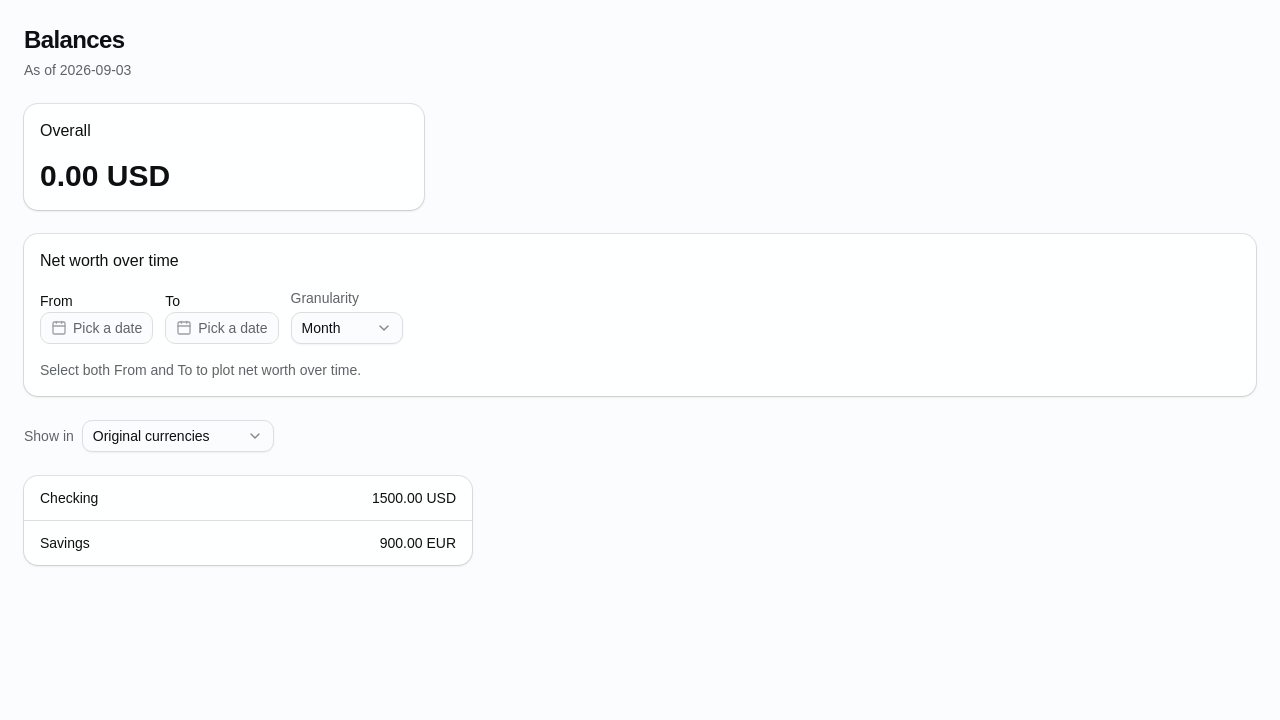
Test: BalancesPage › converts balances into the chosen currency and shows rate provenance on demand
This screenshot has width=1280, height=720.
Expected: the button "Checking" is shown, [40, 488, 360, 508]
Click the dropdown named "Show in": (178, 436) [82, 420, 274, 452]
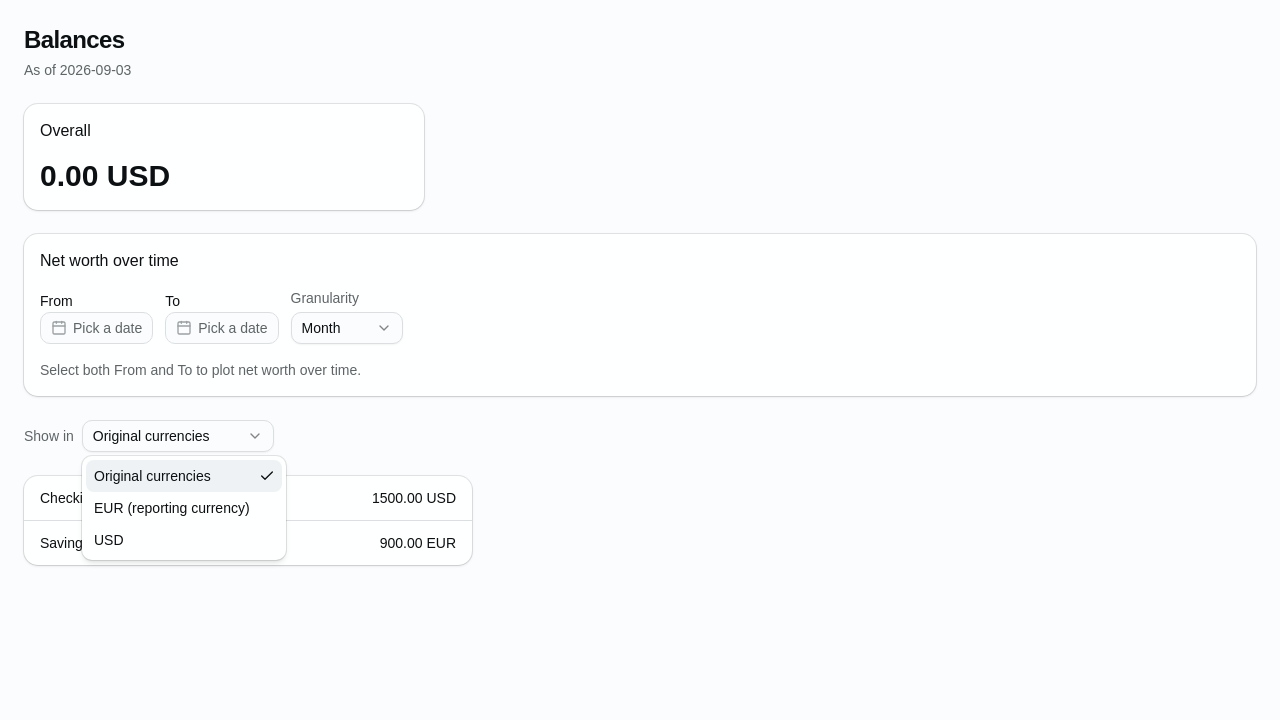
Click the option "EUR (reporting currency)": (172, 508) [94, 500, 250, 516]
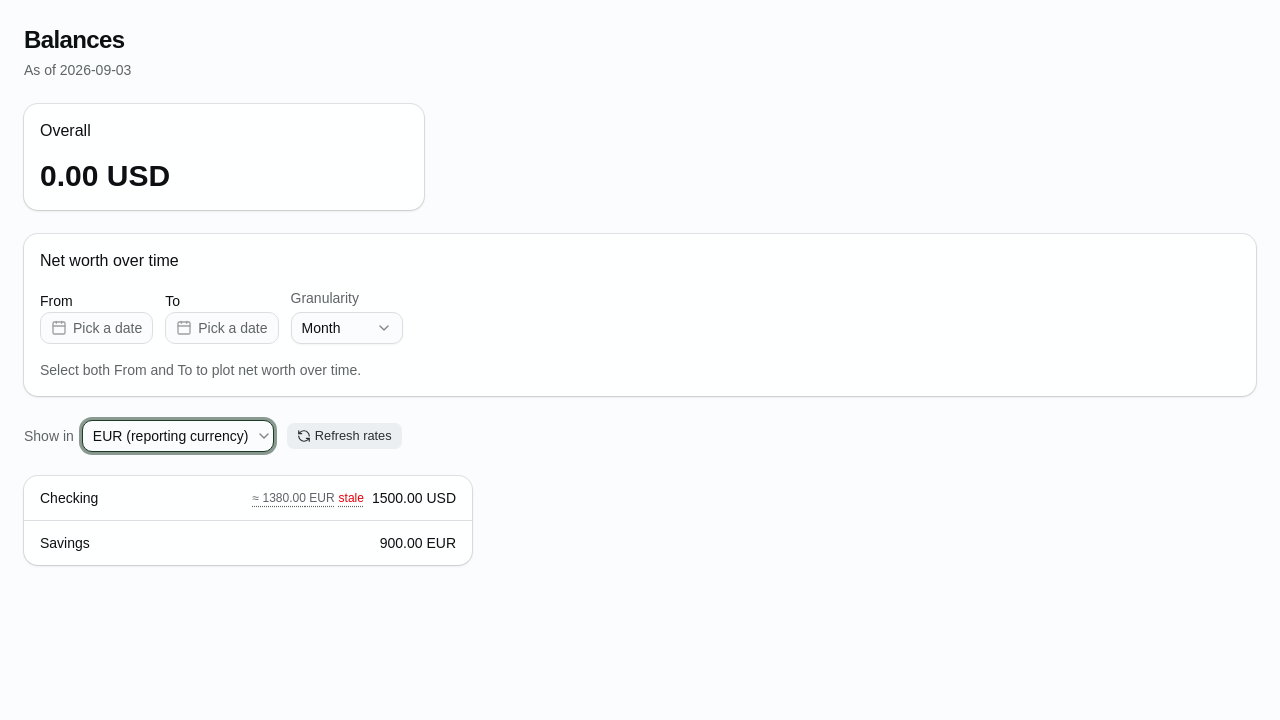
Now the text "stale" is shown, box [339, 490, 364, 506]
Click the text "≈ 1380.00 EUR": (294, 498) [253, 490, 335, 506]
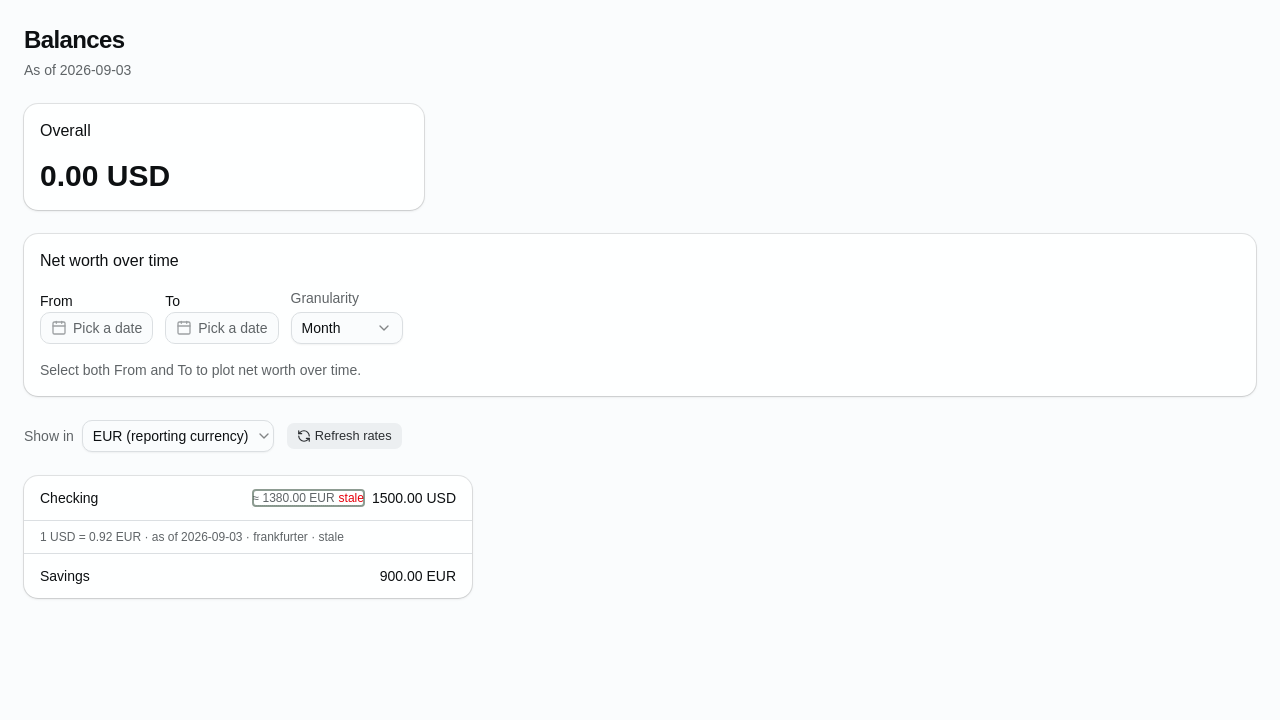
Now the text "1 USD = 0.92 EUR · as of 2026-09-03 · frankfurter · stale" is shown, box [24, 520, 472, 553]
